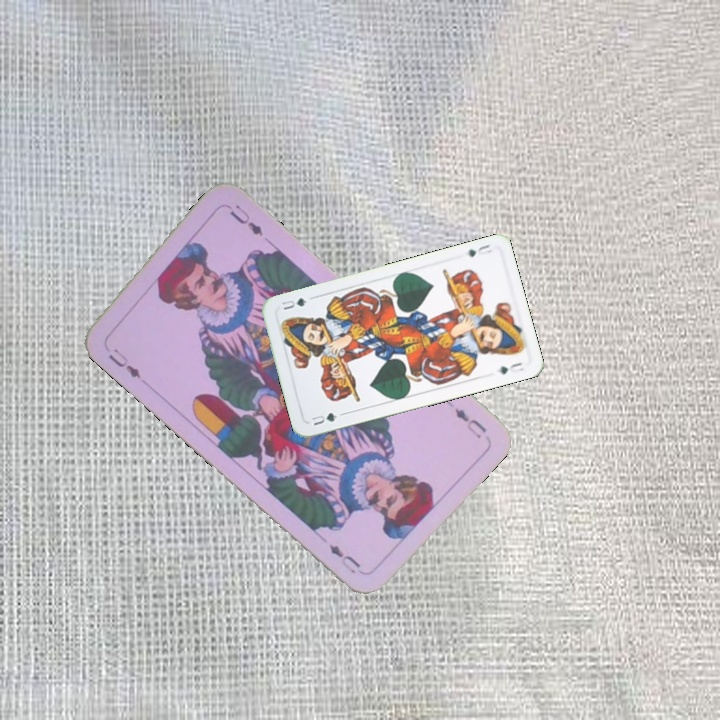EU: (104, 344, 144, 382), (450, 403, 490, 441)
GU: (308, 408, 340, 428), (463, 240, 495, 259)
